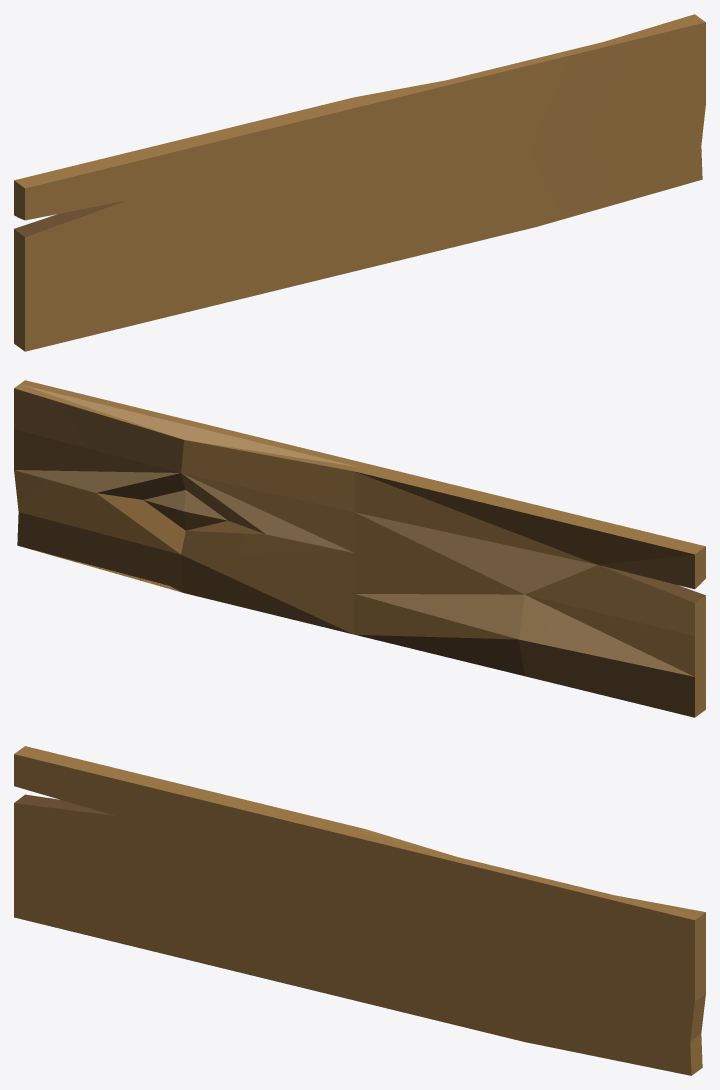
Rendered from mod_CardBG_Front_panel02.fbx.
The picture shows the model from 3 angles, top to bottom: view 1: azimuth 30°, elevation 25°; view 2: azimuth 150°, elevation 25°; view 3: azimuth 330°, elevation 25°; orthographic projection.
Parts seen in each view (by area): view 1: PanelFront; view 2: PanelFront; view 3: PanelFront.
Part boxes in pixels (x1=…): PanelFront: x1=14, y1=14, x2=705, y2=351; PanelFront: x1=14, y1=380, x2=705, y2=717; PanelFront: x1=14, y1=746, x2=705, y2=1075.
Size of the model in its own units: 30.18 by 6.92 by 1.29.
